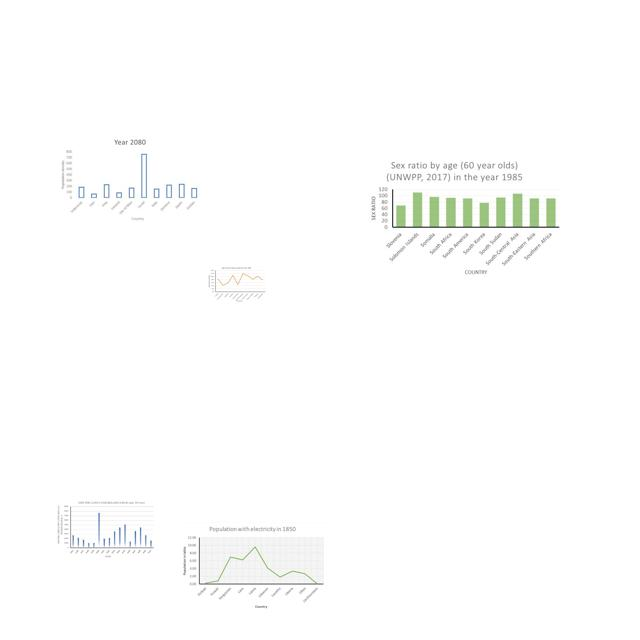Graph: (366, 157, 563, 281), (178, 522, 327, 613), (56, 135, 204, 224), (56, 500, 155, 558), (207, 266, 266, 302)
